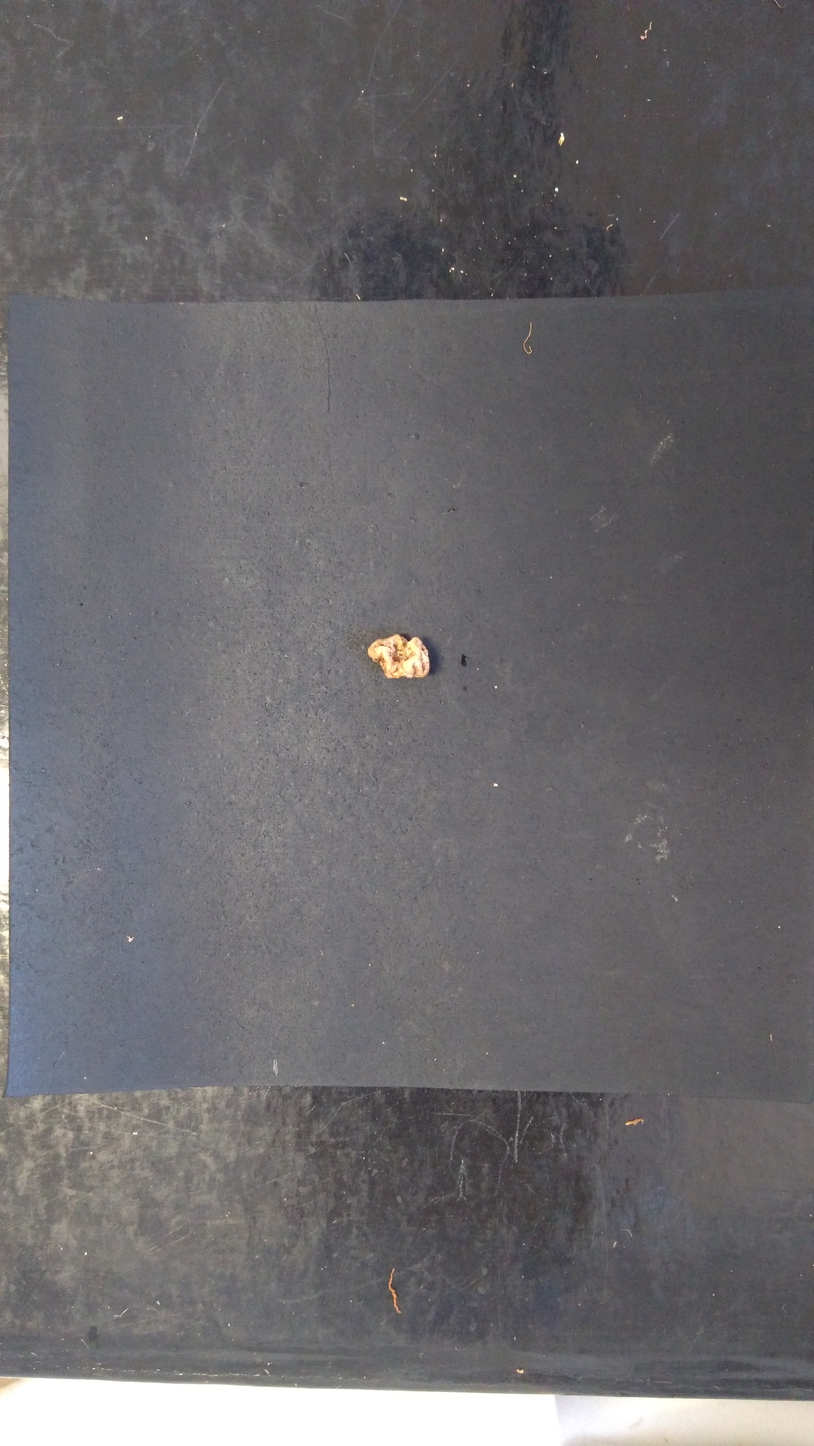nodule: (366, 632, 430, 680)
